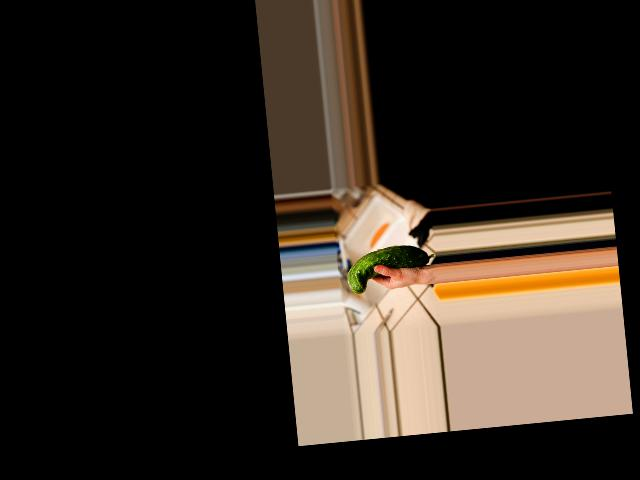cucumber: (344, 241, 437, 294)
